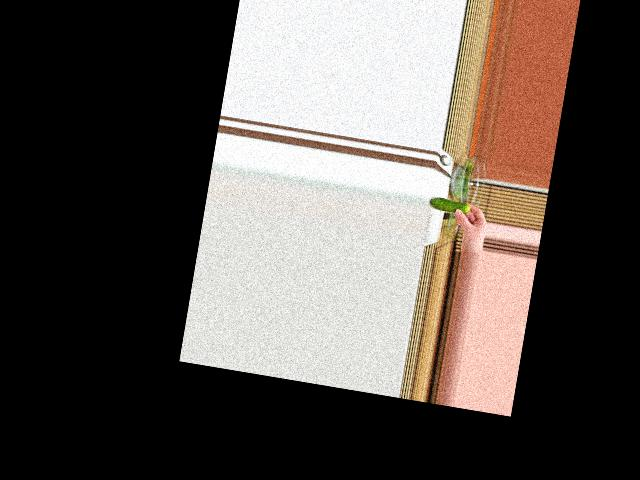cucumber: (429, 196, 471, 215)
